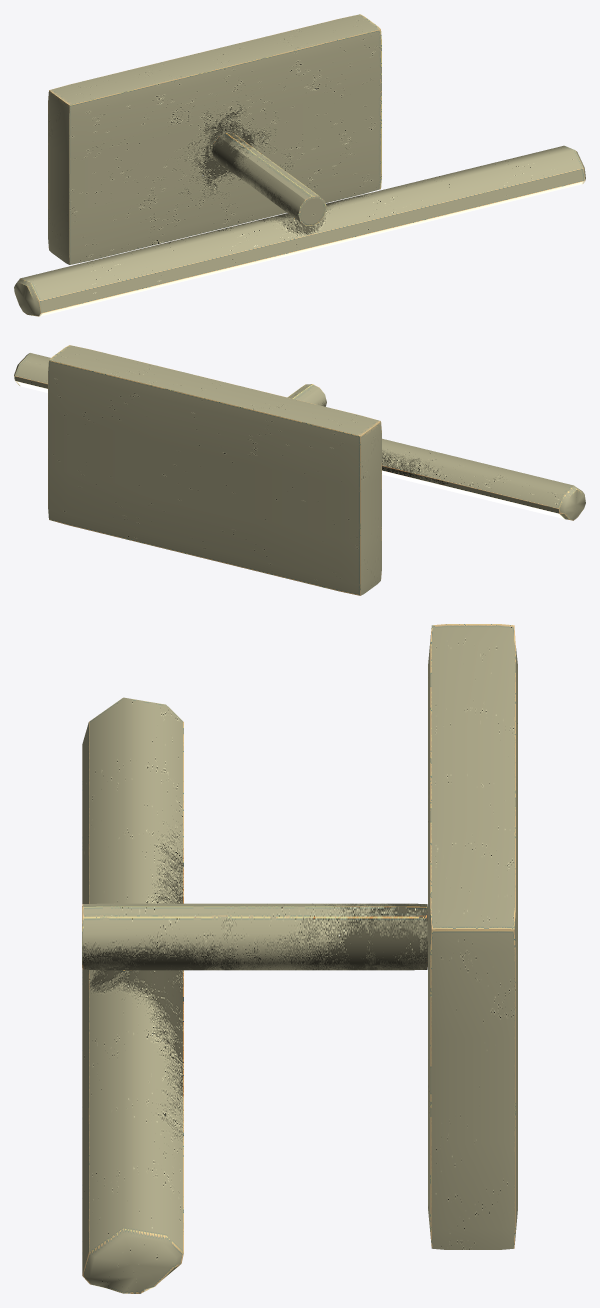
The model's file is painting_lightbar.fbx.
3 views of the same model, one above another, from view 1: azimuth 30°, elevation 25°; view 2: azimuth 150°, elevation 25°; view 3: azimuth 270°, elevation 25° (orthographic). The views are drawn at different scales.
Parts seen in each view (by area): view 1: spotlight.002; view 2: spotlight.002; view 3: spotlight.002.
Boxes of the visible parts, <box> form: spotlight.002: <box>14,14,585,316</box>; spotlight.002: <box>14,345,585,595</box>; spotlight.002: <box>82,624,517,1293</box>.
Size of the model in its own units: 58.06 by 16.28 by 19.89.
Materials: 1 (1 with a texture image).
